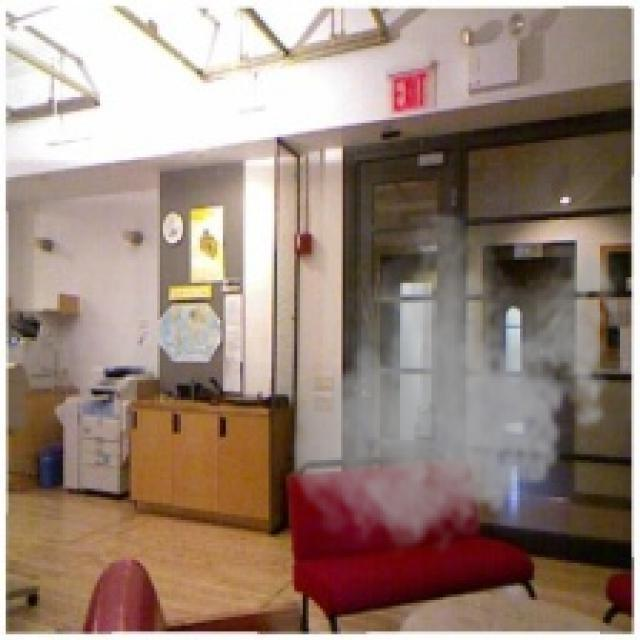Smoke: (282, 211, 628, 560)
